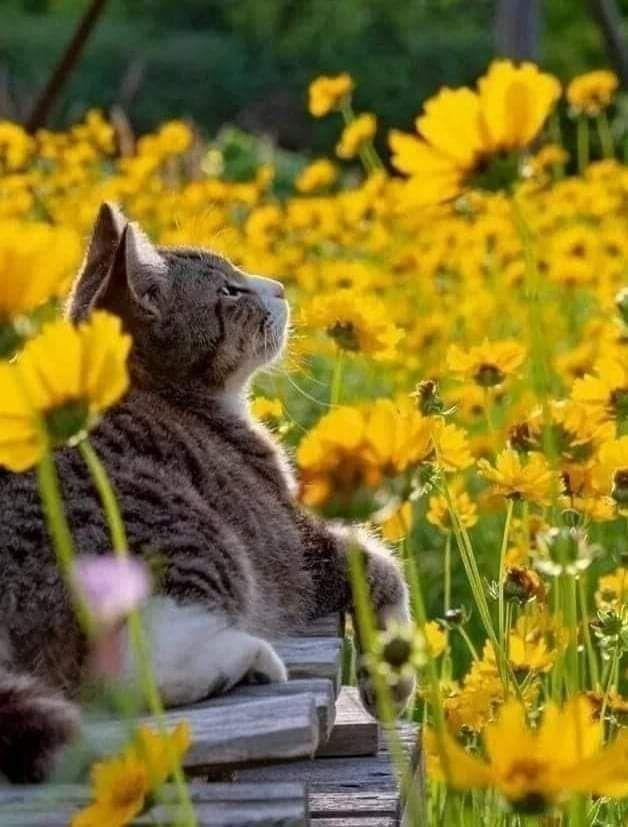kedo: (0, 205, 408, 755)
